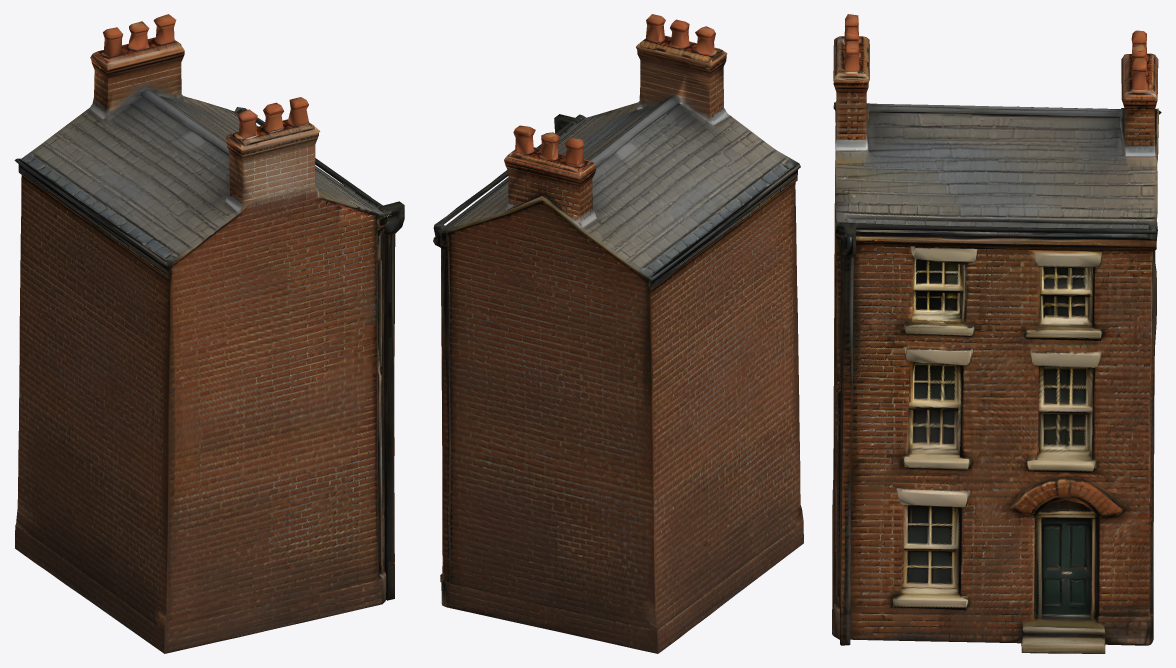
Rendered from townhouse.glb.
The picture shows the model from 3 angles, left to right: view 1: azimuth 30°, elevation 25°; view 2: azimuth 150°, elevation 25°; view 3: azimuth 270°, elevation 25°; orthographic projection. The views are drawn at different scales.
Visible parts, largest first — view 1: tripo_node_06cdba7d-ea16-48f2-b757-adb494d5230a; view 2: tripo_node_06cdba7d-ea16-48f2-b757-adb494d5230a; view 3: tripo_node_06cdba7d-ea16-48f2-b757-adb494d5230a.
Boxes of the visible parts, left/top/right/bottom form: tripo_node_06cdba7d-ea16-48f2-b757-adb494d5230a: left=14, top=14, right=404, bottom=653; tripo_node_06cdba7d-ea16-48f2-b757-adb494d5230a: left=433, top=14, right=803, bottom=653; tripo_node_06cdba7d-ea16-48f2-b757-adb494d5230a: left=832, top=14, right=1161, bottom=653.
Bounding box in the file's own units: 0.4941 × 1 × 0.5333.
Materials: 1 (1 with a texture image).
